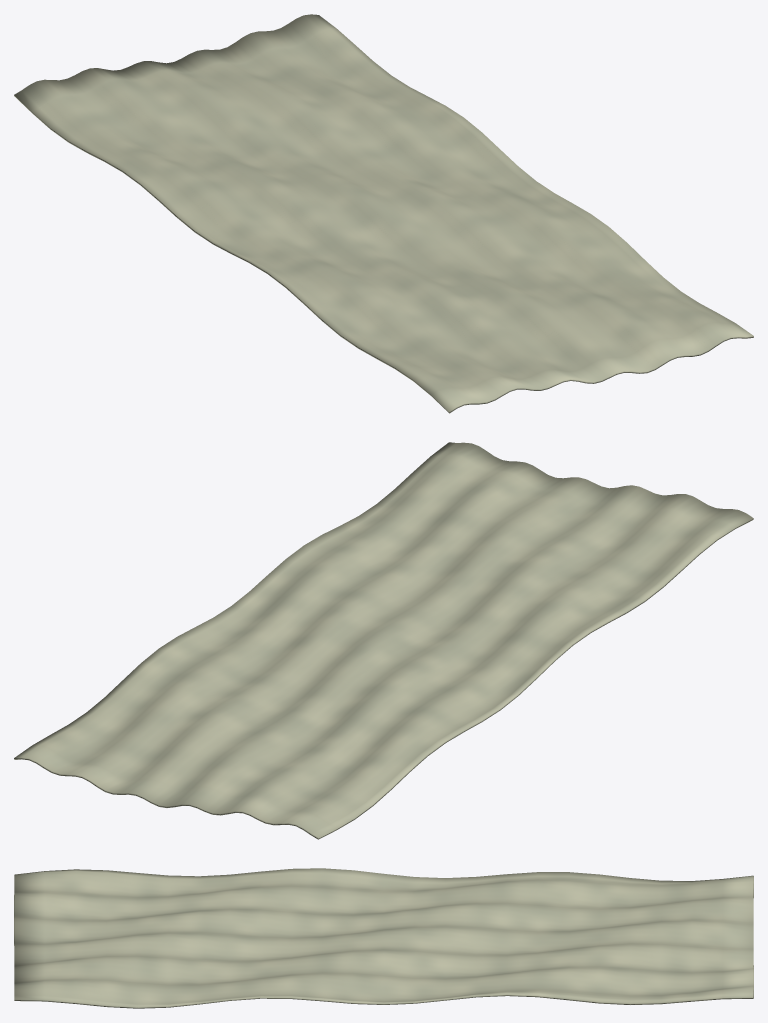
Rendered from BathMat.fbx.
The picture shows the model from 3 angles, top to bottom: view 1: azimuth 30°, elevation 25°; view 2: azimuth 150°, elevation 25°; view 3: azimuth 270°, elevation 25°; orthographic projection. The views are drawn at different scales.
Visible parts, largest first — view 1: BathMat_Towel; view 2: BathMat_Towel; view 3: BathMat_Towel.
Part boxes in pixels (x1,y1,x2,y2): BathMat_Towel: (14,14,753,413); BathMat_Towel: (14,442,753,839); BathMat_Towel: (14,868,753,1008).
Size of the model in its own units: 85.35 by 4.7 by 210.
